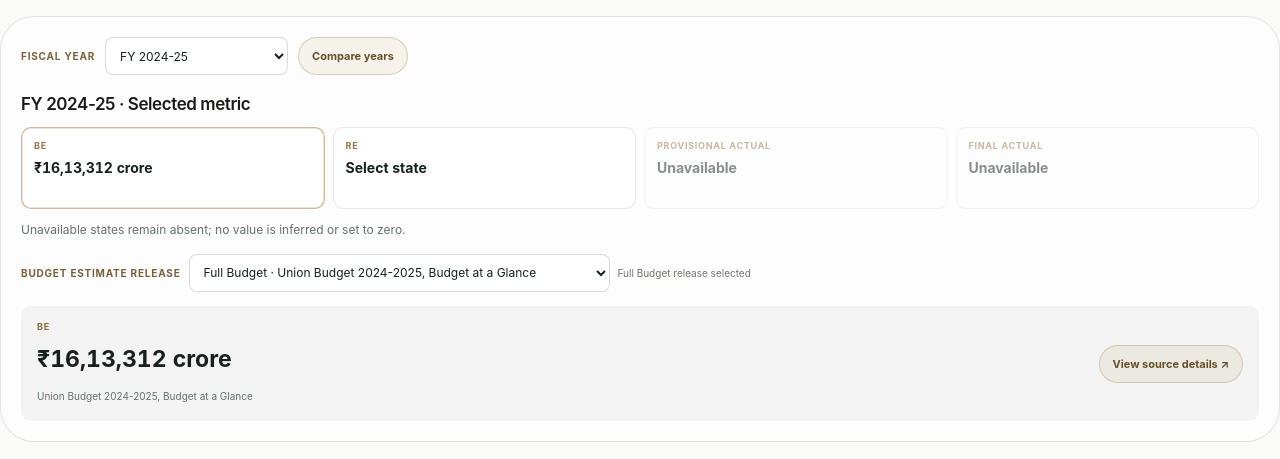
Scenario: Historical fiscal comparison panel › uses the full Budget BE by default in FY 2024-25 and permits explicit Interim BE selection
Check: the heading "FY 2024-25 · Selected metric" is shown, box [21,94,250,114]
Select "Interim Budget · Interim Budget 2024-2025, Budget at a Glance" in the dropdown labelled "Budget Estimate release" at x=399, y=273, box [188,254,610,292]
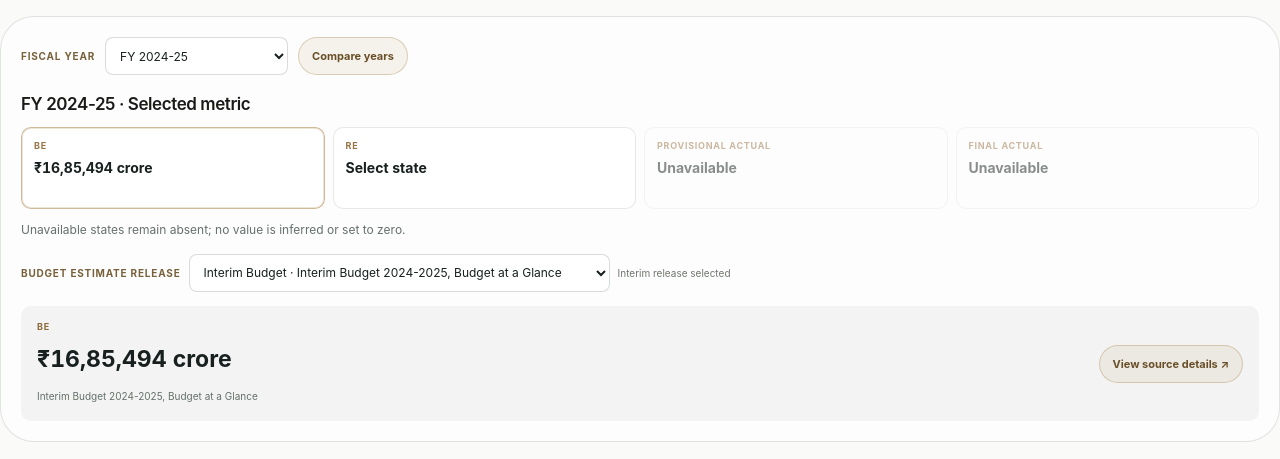
Check: the text "Interim release selected" is shown, box [618,265,730,281]
